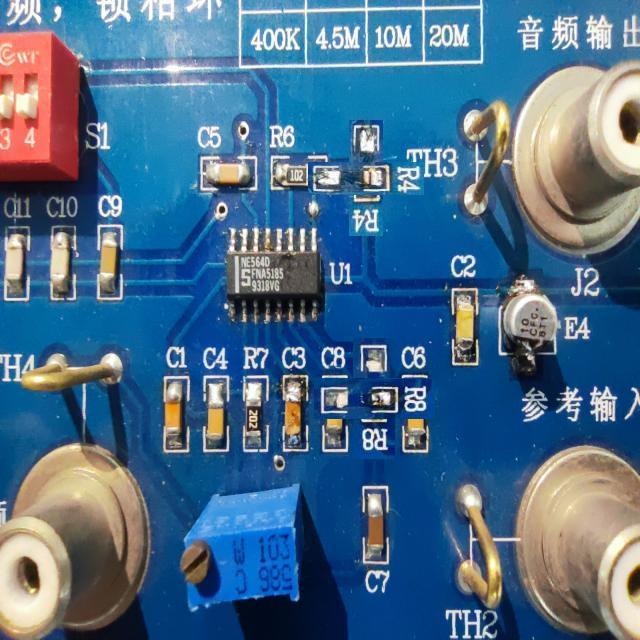miss_welding: (334, 358, 415, 439), (328, 140, 404, 216)
